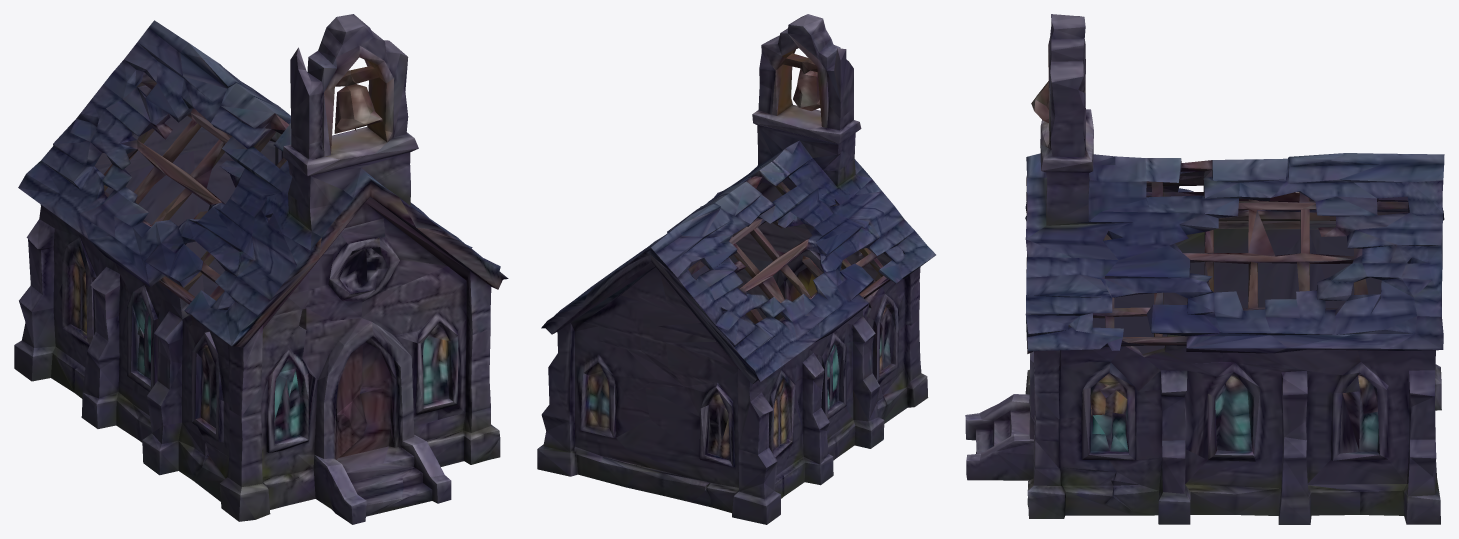
Rendered from oc_chapel_haunted.glb.
The picture shows the model from 3 angles, left to right: view 1: azimuth 30°, elevation 25°; view 2: azimuth 150°, elevation 25°; view 3: azimuth 270°, elevation 25°; orthographic projection. The views are drawn at different scales.
Parts seen in each view (by area): view 1: W_chapel_haunted; view 2: W_chapel_haunted; view 3: W_chapel_haunted.
Boxes of the visible parts, x1,y1,x2,y2 form: W_chapel_haunted: (14,14,508,524); W_chapel_haunted: (537,14,935,524); W_chapel_haunted: (965,14,1444,524).
Size of the model in its own units: 8.72 by 13.16 by 13.
Materials: 1 (1 with a texture image).
